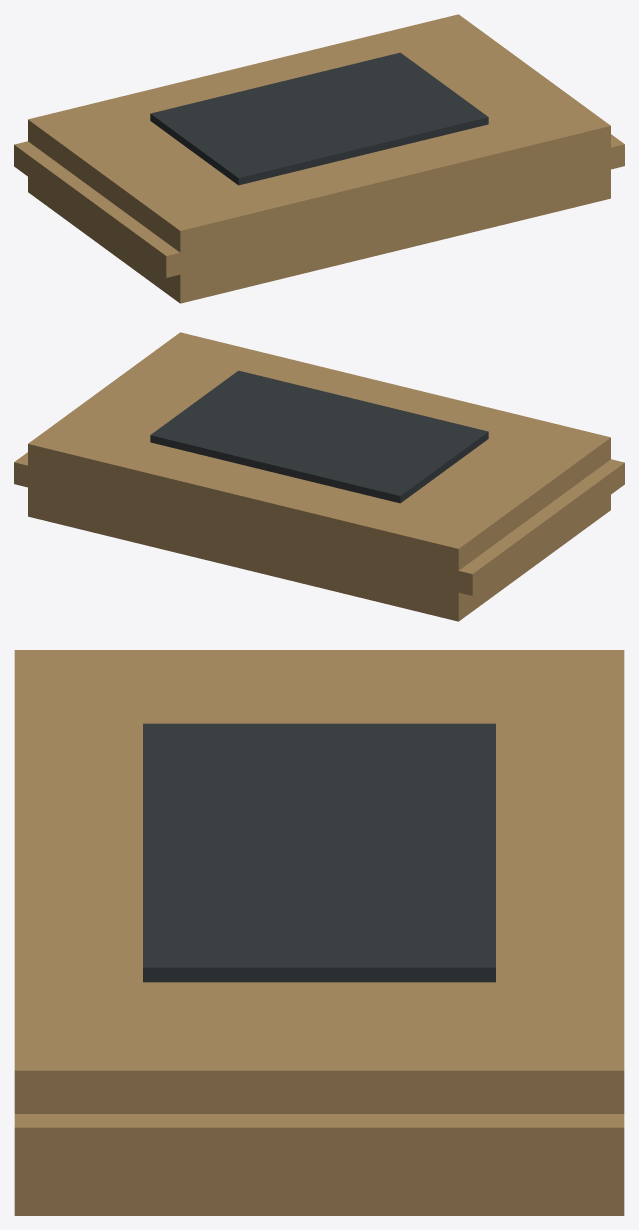
Rendered from mre_package.glb.
3 renders of one model, top to bottom at view 1: azimuth 30°, elevation 25°; view 2: azimuth 150°, elevation 25°; view 3: azimuth 270°, elevation 25°, orthographic. The views are drawn at different scales.
Visible parts, largest first — view 1: mre_package:compound; view 2: mre_package:compound; view 3: mre_package:compound.
Boxes of the visible parts, x1,y1,x2,y2 form: mre_package:compound: (14,14,624,303); mre_package:compound: (14,332,624,621); mre_package:compound: (14,650,624,1215).
Size of the model in its own units: 0.264 by 0.044 by 0.152.
